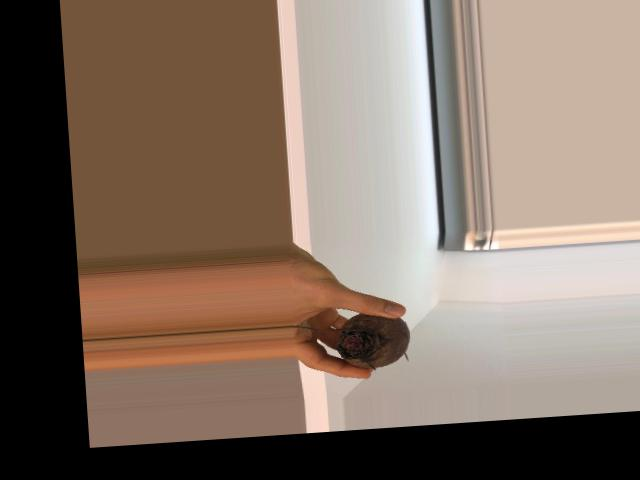beet: (292, 309, 413, 375)
